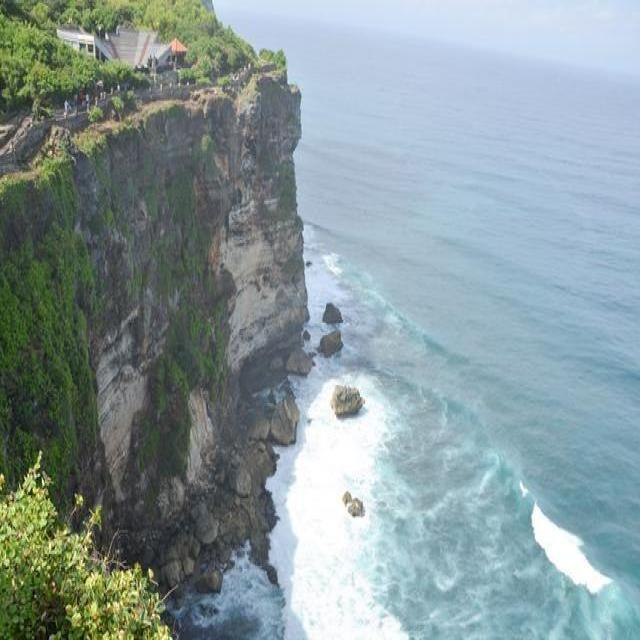reef: (306, 287, 370, 427)
